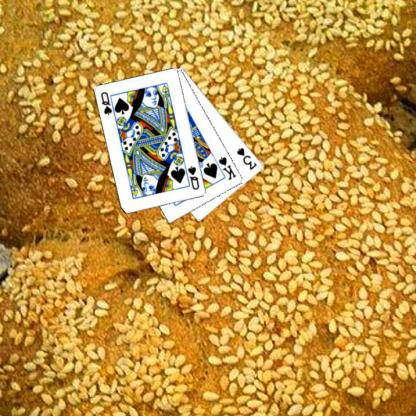3S: (234, 145, 258, 171)
KS: (216, 154, 238, 181)
QS: (186, 163, 200, 191), (98, 90, 113, 116)
